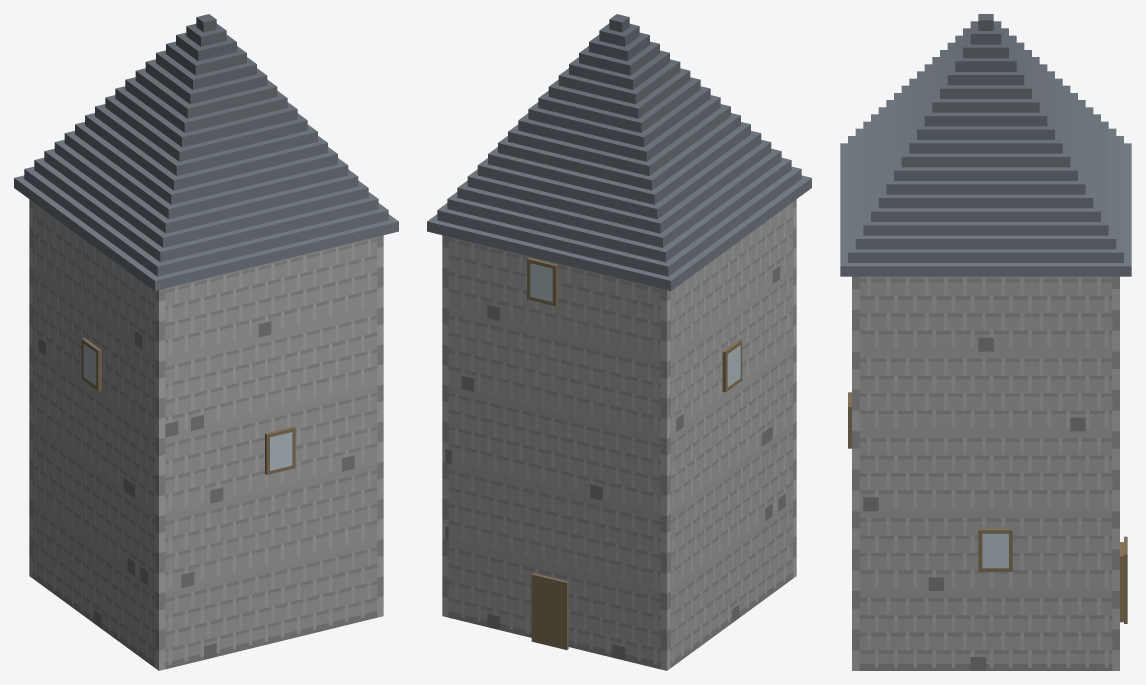
File: torre_mago_04.glb
The picture shows the model from 3 angles, left to right: view 1: azimuth 30°, elevation 25°; view 2: azimuth 150°, elevation 25°; view 3: azimuth 270°, elevation 25°; orthographic projection. The views are drawn at different scales.
Visible parts, largest first — view 1: torre_mago_04; view 2: torre_mago_04; view 3: torre_mago_04.
Boxes of the visible parts, bbox=[...] form: torre_mago_04: bbox=[14, 14, 398, 670]; torre_mago_04: bbox=[427, 14, 811, 670]; torre_mago_04: bbox=[840, 14, 1131, 670].
Size of the model in its own units: 7.6 by 17.2 by 7.6.
